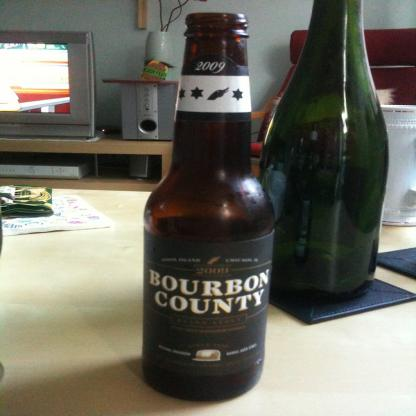drinking: (144, 13, 277, 402), (256, 0, 389, 304)
